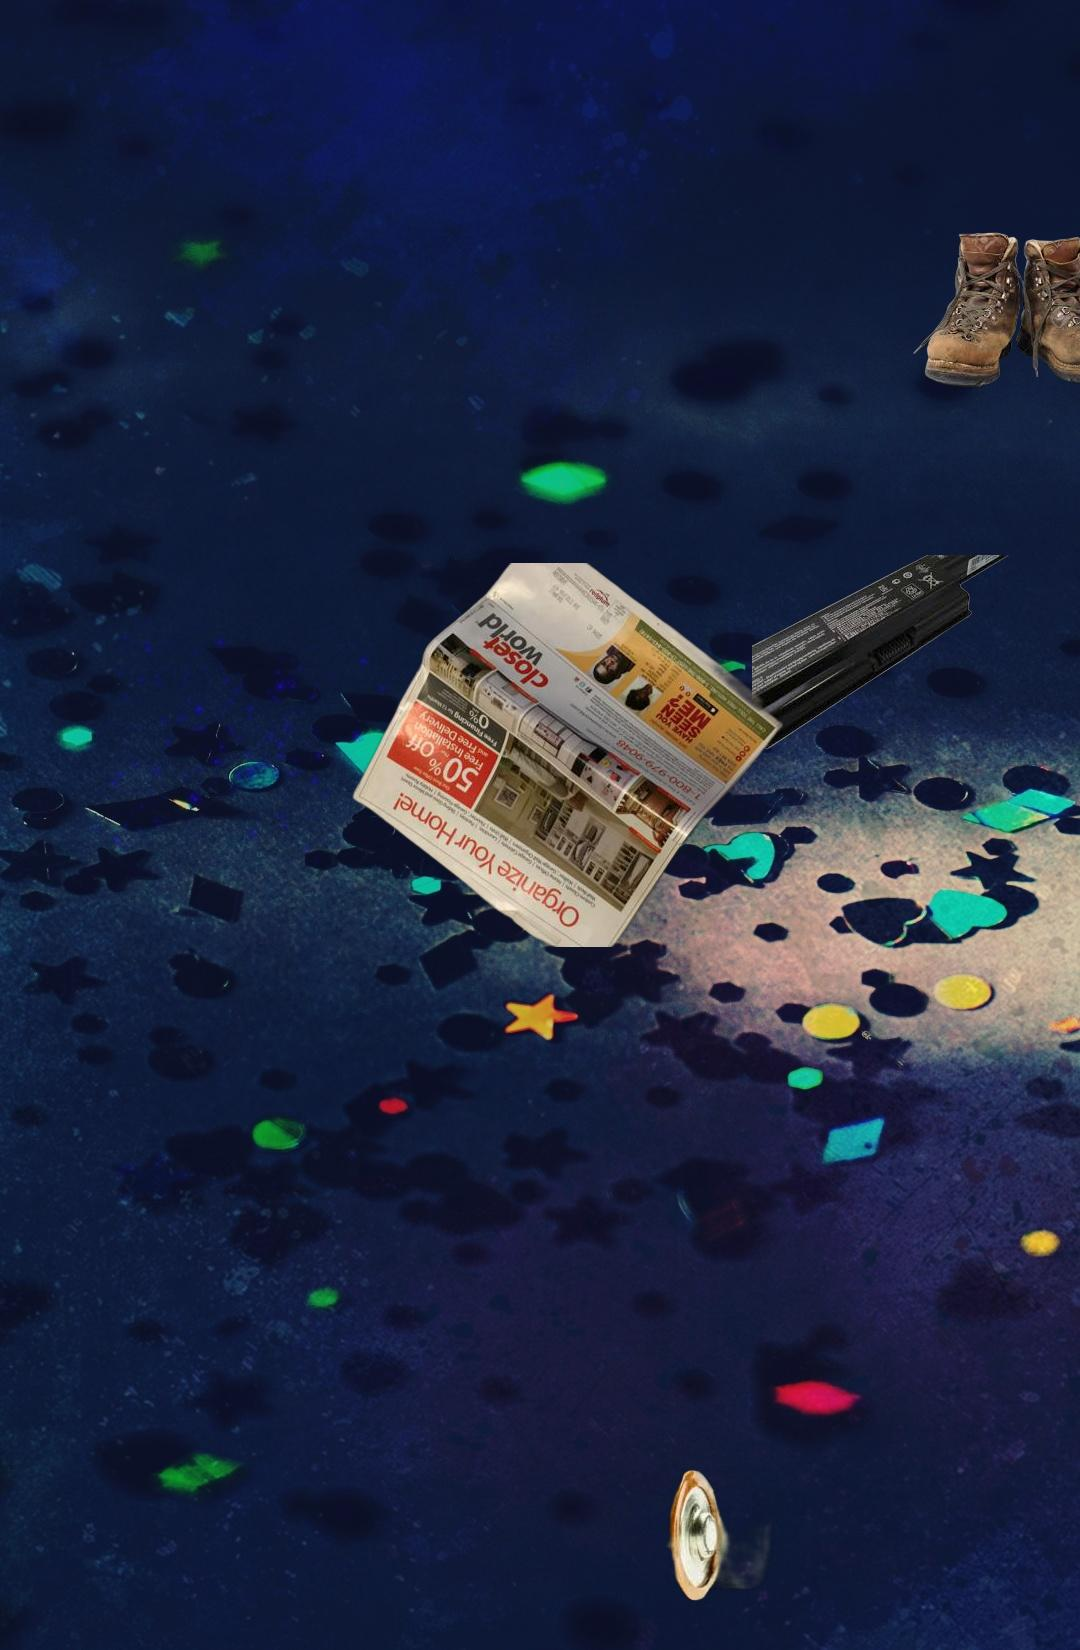battery: (752, 554, 1010, 750), (579, 1448, 891, 1605)
paper: (348, 563, 787, 947)
shoes: (910, 230, 1080, 391)
